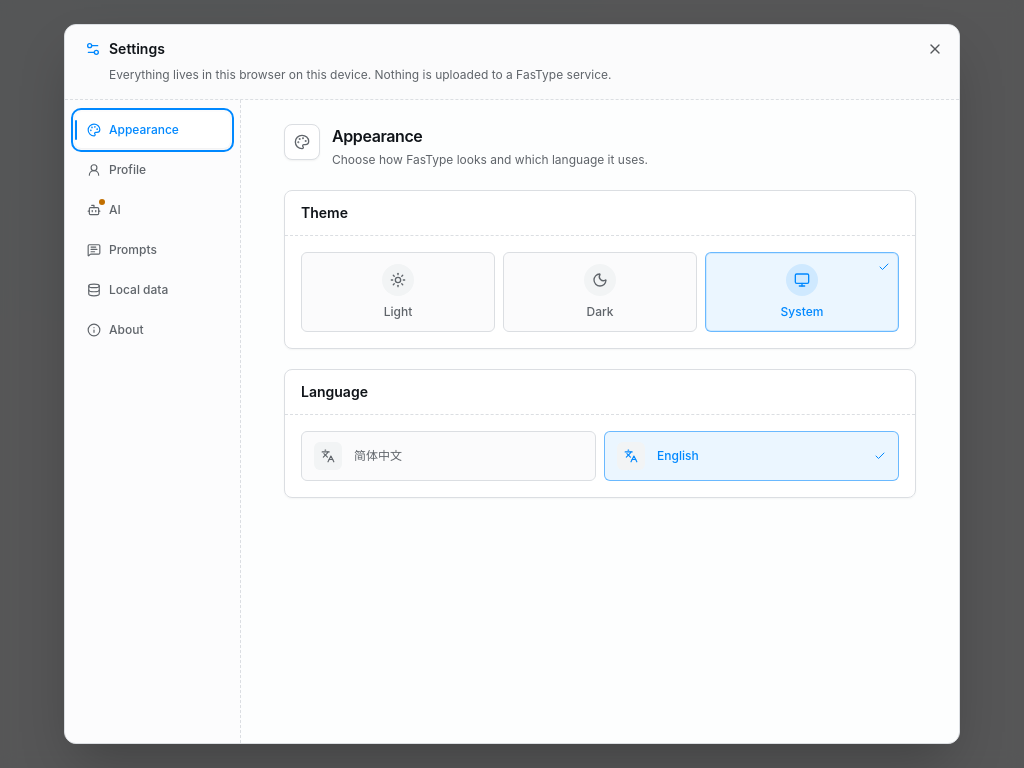
设置弹框 › 外观默认打开，创作者资料可在子菜单中编辑
Expected: the button "System" is shown, [705, 252, 899, 332]
Click the button "Profile" at (152,170), box [75, 152, 230, 188]
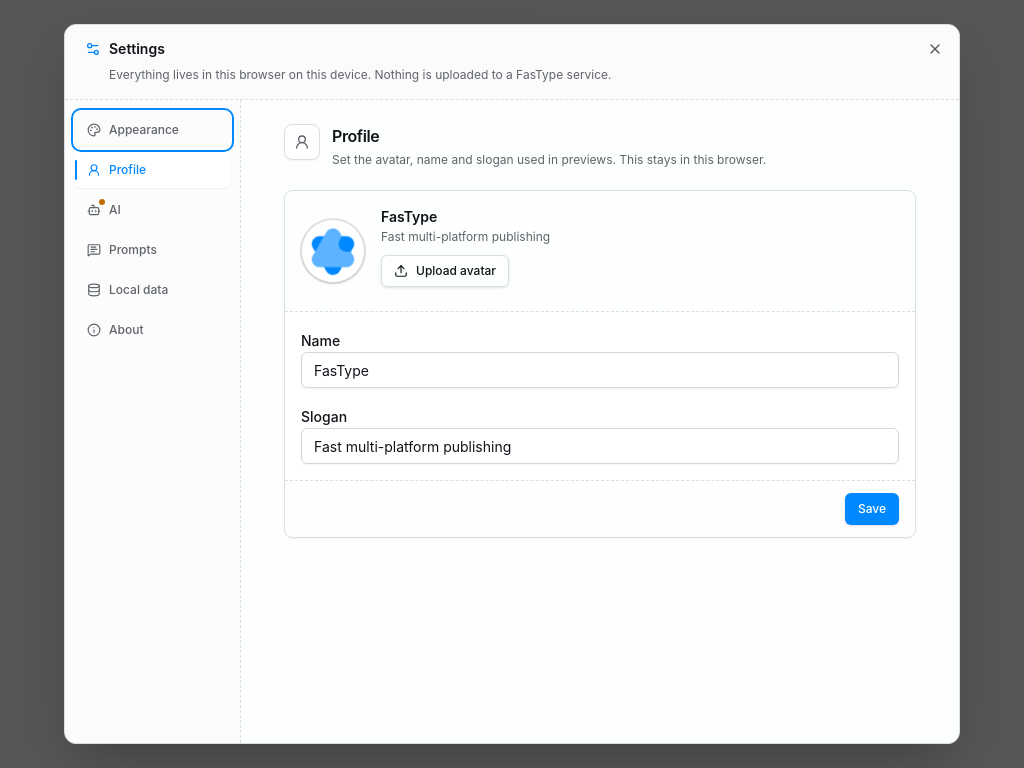
Now the field labelled "Name" is shown, box [301, 352, 899, 388]
Now the field labelled "Slogan" is shown, box [301, 428, 899, 464]
